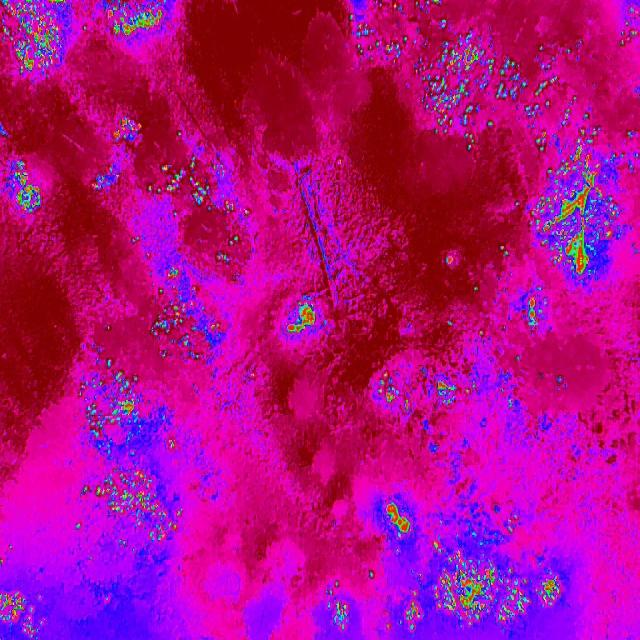fire: (335, 0, 640, 146), (78, 344, 198, 556), (327, 545, 564, 640), (506, 133, 622, 281), (144, 231, 256, 357), (95, 154, 261, 233), (2, 0, 72, 88), (373, 366, 458, 416), (94, 0, 178, 45), (1, 147, 38, 226), (0, 585, 43, 640), (102, 111, 150, 154), (278, 296, 322, 342), (382, 496, 419, 546), (518, 283, 546, 335)
